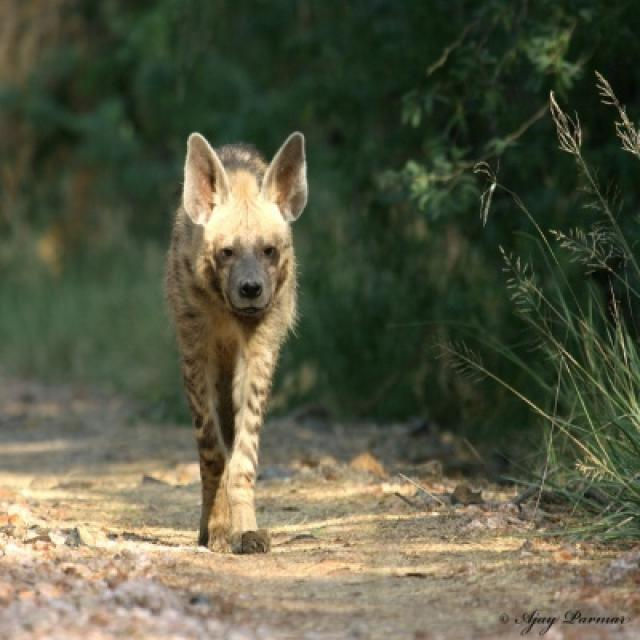hyena: (163, 133, 310, 557)
